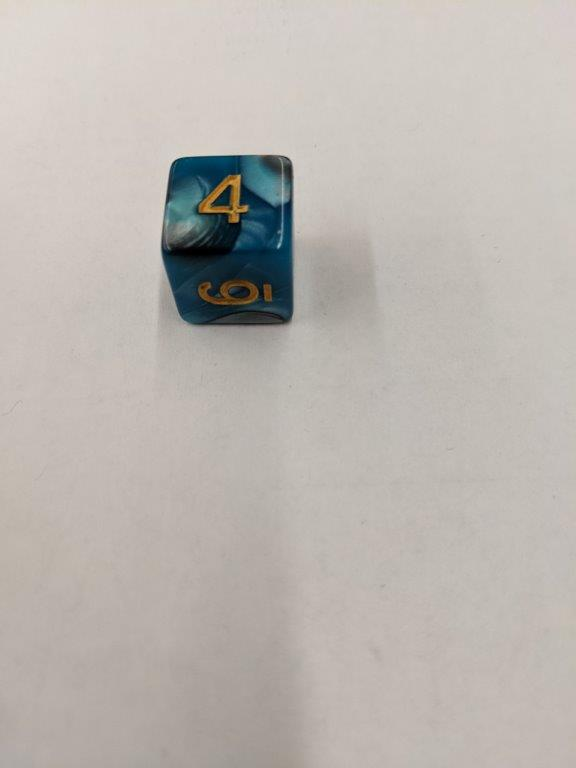d6-4: (160, 154, 297, 329)
